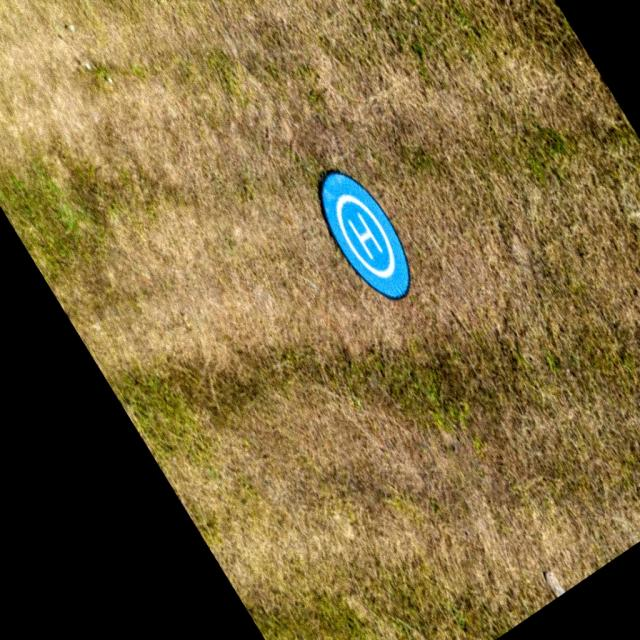helipad: (333, 190, 400, 279)
